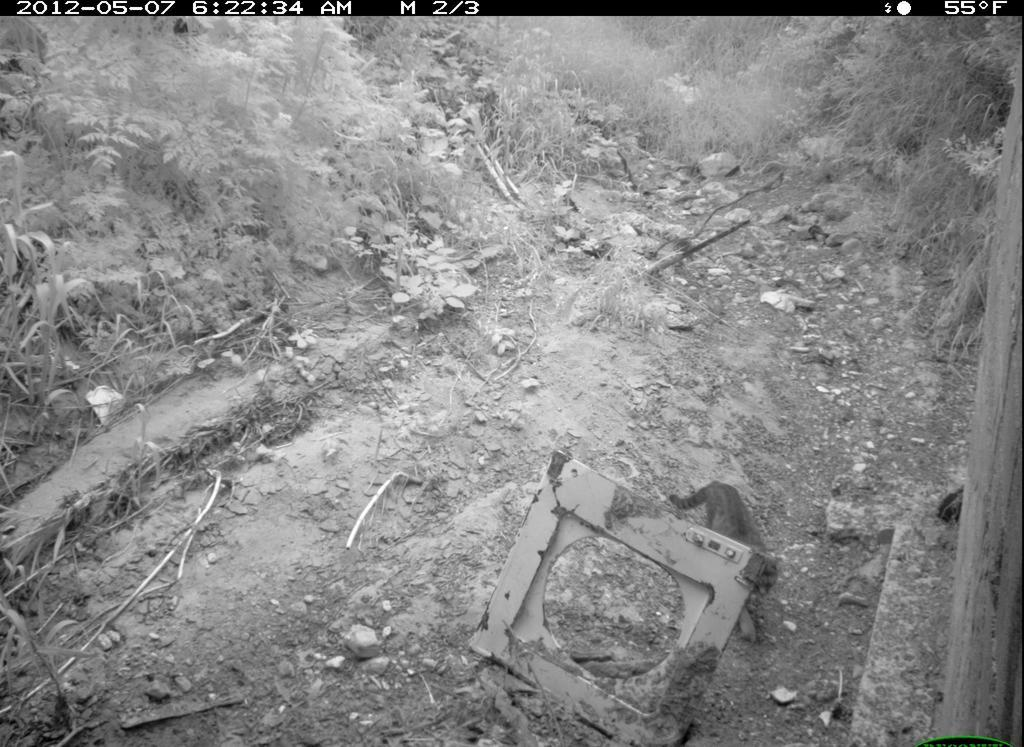cat: (671, 452, 792, 647)
